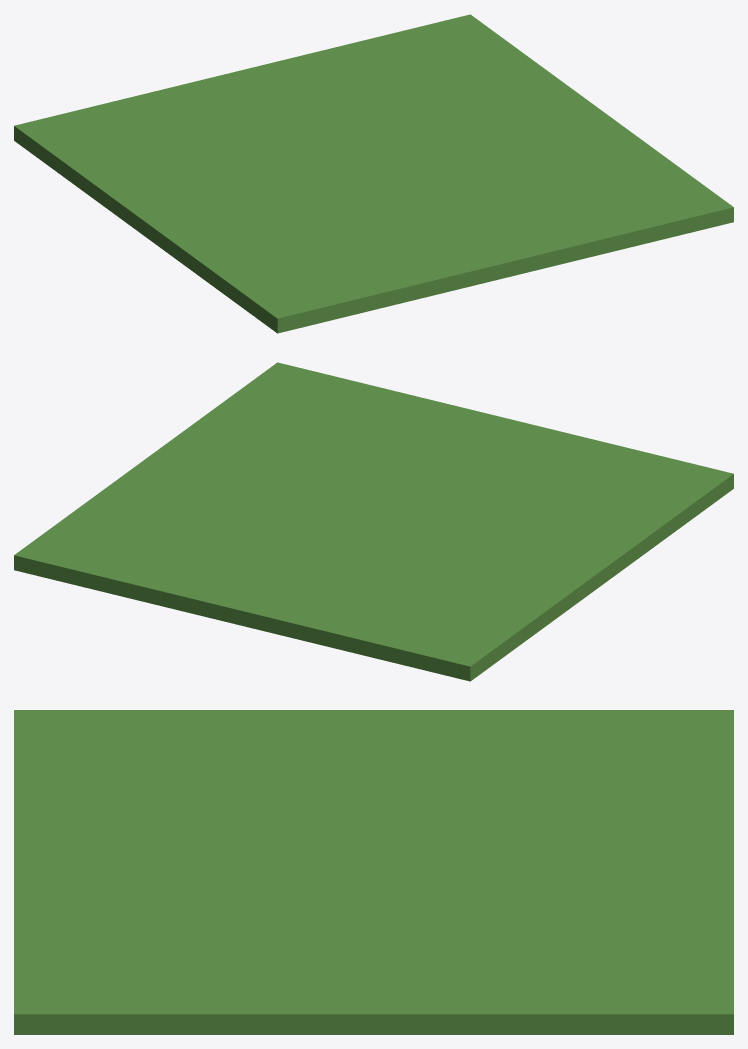
The model's file is erva.gltf.
3 views of the same model, one above another, from view 1: azimuth 30°, elevation 25°; view 2: azimuth 150°, elevation 25°; view 3: azimuth 270°, elevation 25° (orthographic). The views are drawn at different scales.
Parts seen in each view (by area): view 1: Layer.1; view 2: Layer.1; view 3: Layer.1.
Part boxes in pixels (x1,y1,x2,y2): Layer.1: (14,14,733,333); Layer.1: (14,362,733,681); Layer.1: (14,710,733,1034).
Size of the model in its own units: 32 by 1 by 32.
Materials: 2 (2 with a texture image).
